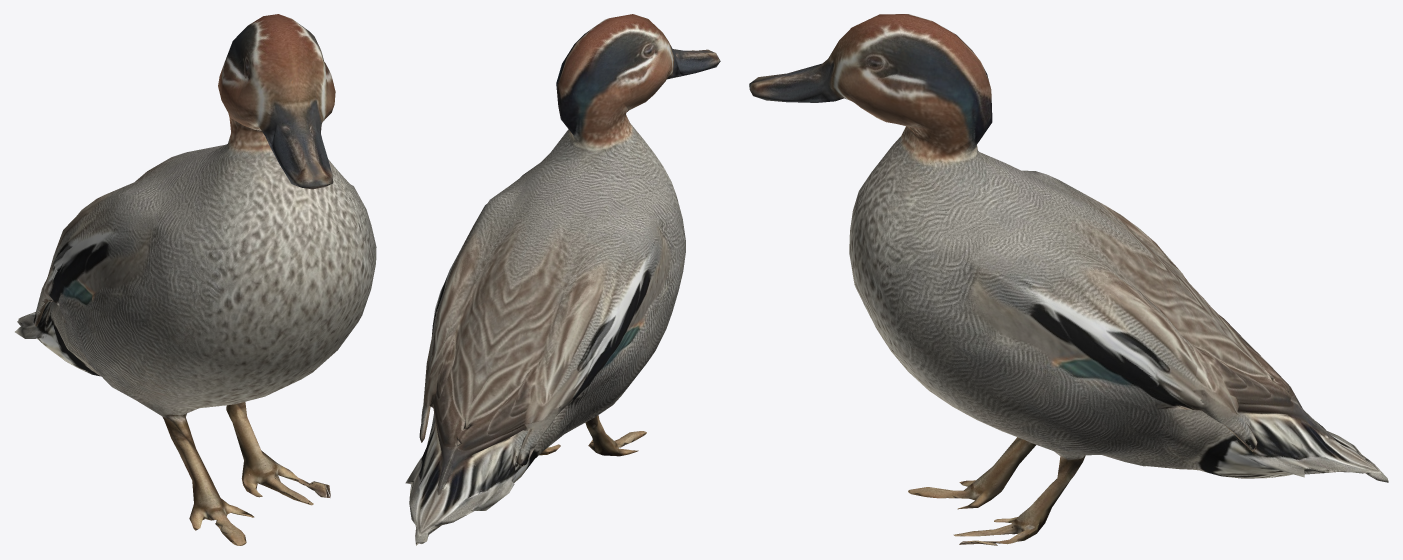
Rendered from teal.glb.
3 views of the same model, side by side, from view 1: azimuth 30°, elevation 25°; view 2: azimuth 150°, elevation 25°; view 3: azimuth 270°, elevation 25° (orthographic). The views are drawn at different scales.
Visible parts, largest first — view 1: teal; view 2: teal; view 3: teal.
Boxes of the visible parts, x1=… form: teal: x1=15, y1=14, x2=376, y2=545; teal: x1=405, y1=14, x2=720, y2=545; teal: x1=749, y1=14, x2=1388, y2=545.
Bounding box in the file's own units: 0.7739 × 1.6 × 1.89.
Materials: 1 (1 with a texture image).
